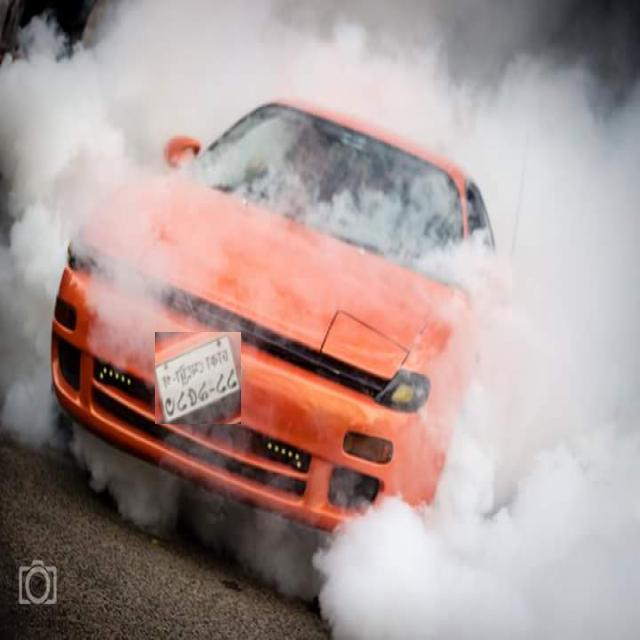numberplate: (156, 332, 242, 424)
